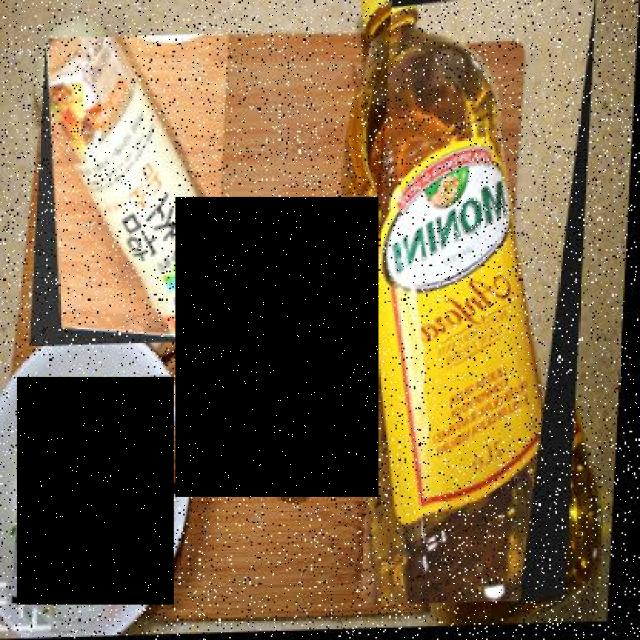Egg: (175, 197, 379, 497)
Onion_Leaves: (17, 378, 174, 605)
